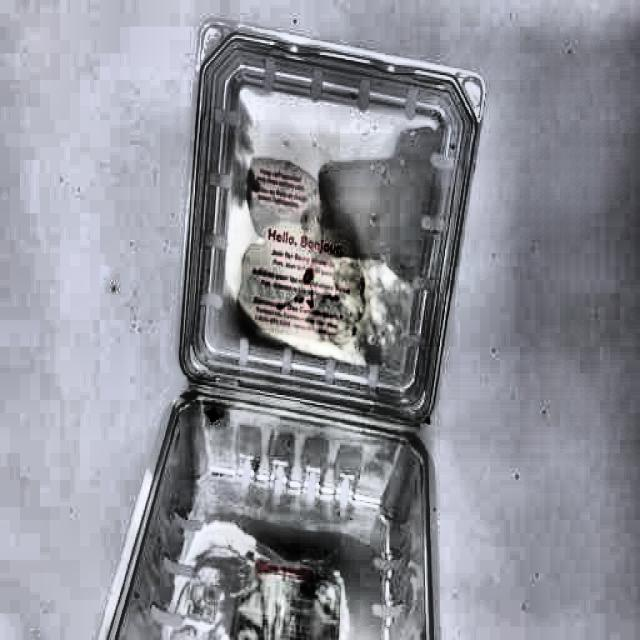plastic: (140, 35, 473, 640)
